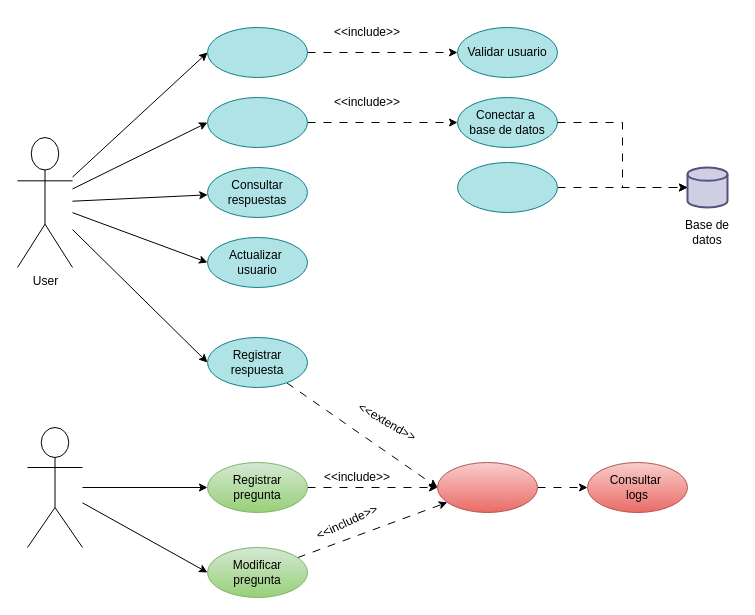
This 755x615 diagram has some shape labels left out. The shapes that lost their labels are listed below. From the top down, each one's centre as x and y in pixels, then its label:
point 257,52: Iniciar sesión
point 257,122: Consultar preguntas
point 507,187: Cerrar conexión
point 54,487: Admin
point 487,487: Registrar log
